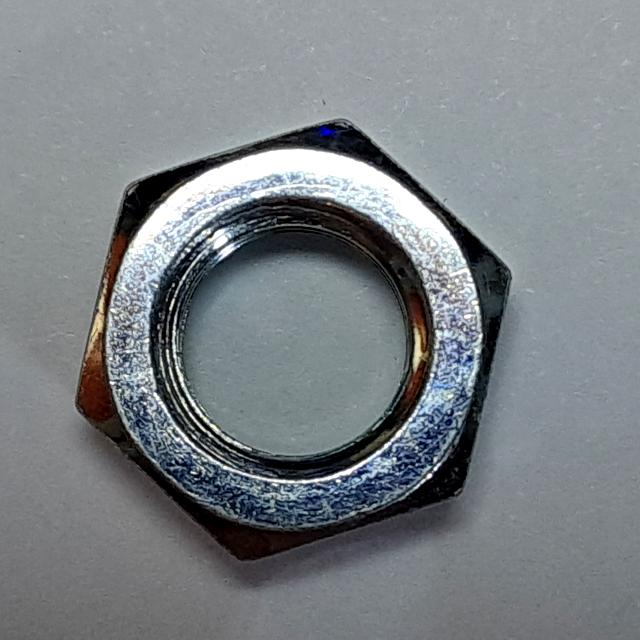Excellent: (53, 104, 522, 576)
